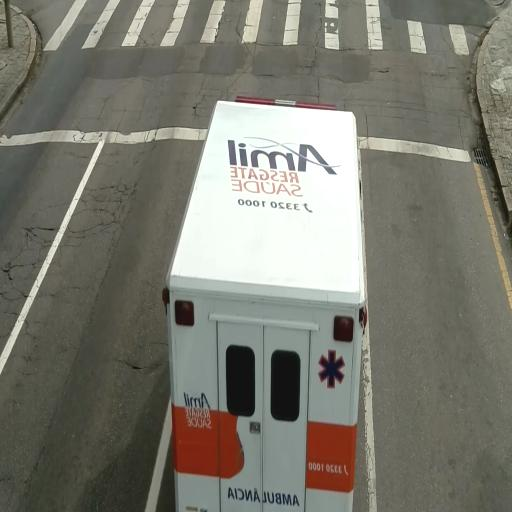others: (160, 96, 369, 512)
